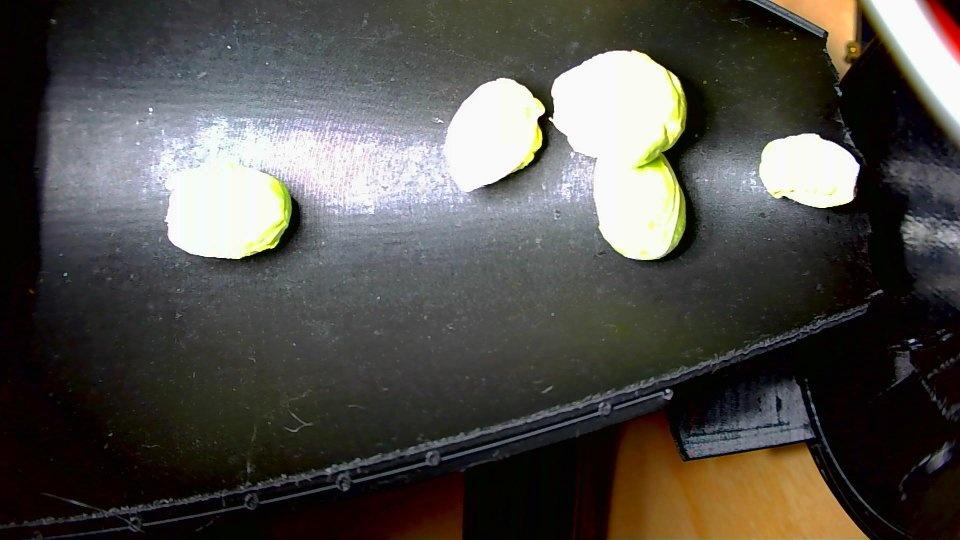berry: (551, 51, 686, 164), (165, 163, 292, 258), (443, 78, 544, 191), (595, 159, 684, 259), (760, 134, 858, 207)
